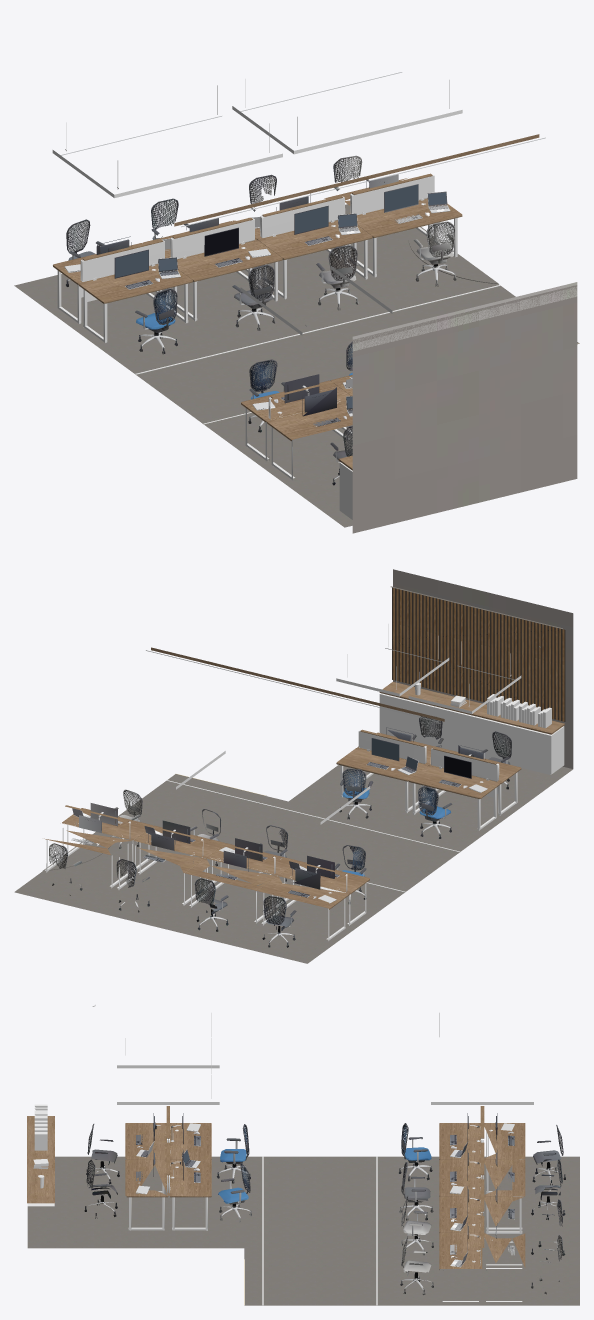
Rendered from z-open_e-lite.light.3c137f64.glb.
The picture shows the model from 3 angles, top to bottom: view 1: azimuth 30°, elevation 25°; view 2: azimuth 150°, elevation 25°; view 3: azimuth 270°, elevation 25°; orthographic projection. The views are drawn at different scales.
Parts seen in each view (by area): view 1: open_e_plaster, open_e_carpet, open_e_oak, open_e_fx, open_e_satin, open_e_emit, open_e_metal_satin; view 2: open_e_carpet, open_e_proxy_slat, open_e_satin, open_e_oak, open_e_fx, open_e_plaster, open_e_emit, open_e_metal_satin; view 3: open_e_carpet, open_e_oak, open_e_fx, open_e_satin, open_e_metal_satin.
Part boxes in pixels (box(x1,y1,x2,y2)): open_e_plaster: box(352, 282, 577, 533); open_e_carpet: box(14, 204, 579, 527); open_e_oak: box(53, 134, 539, 470); open_e_fx: box(66, 155, 456, 485); open_e_satin: box(52, 79, 500, 519); open_e_emit: box(60, 72, 545, 408); open_e_metal_satin: box(64, 191, 579, 479); open_e_carpet: box(14, 765, 572, 963); open_e_proxy_slat: box(392, 587, 565, 721); open_e_satin: box(45, 624, 564, 940); open_e_oak: box(44, 647, 564, 909); open_e_fx: box(49, 716, 511, 947); open_e_plaster: box(393, 569, 573, 768); open_e_emit: box(146, 586, 562, 817); open_e_metal_satin: box(74, 745, 507, 942); open_e_carpet: box(27, 1156, 579, 1305); open_e_oak: box(27, 1106, 525, 1269); open_e_fx: box(84, 1113, 565, 1294); open_e_satin: box(27, 1005, 533, 1305); open_e_metal_satin: box(88, 1123, 560, 1305).
Bounding box in the file's own units: 6.5 × 3.35 × 10.45.
Materials: 9 (5 with a texture image).
